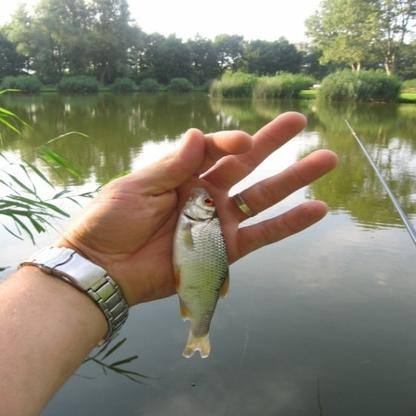fish: (173, 186, 231, 360)
